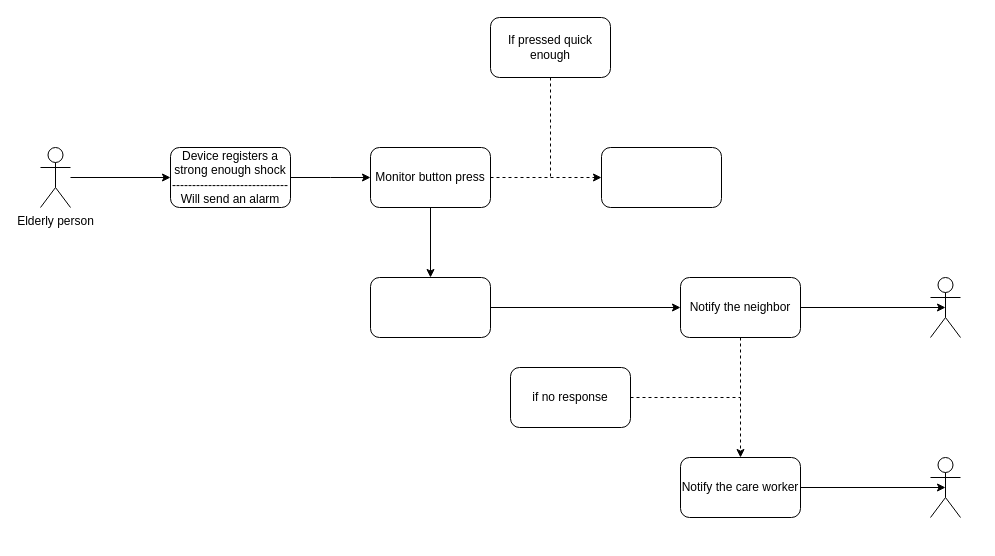
The diagram is 995 pixels wide and 556 high, and some of its shapes have lost their labels. The shapes that lost their labels are listed below. From the top down, each one's box as (x1, y1, x2, y2) in pixels, then its label:
(600, 146, 722, 208): Reset the device and not send out an alarm
(370, 276, 490, 338): Send alarm
(930, 276, 960, 338): Neighbor
(930, 456, 960, 518): Care worker
